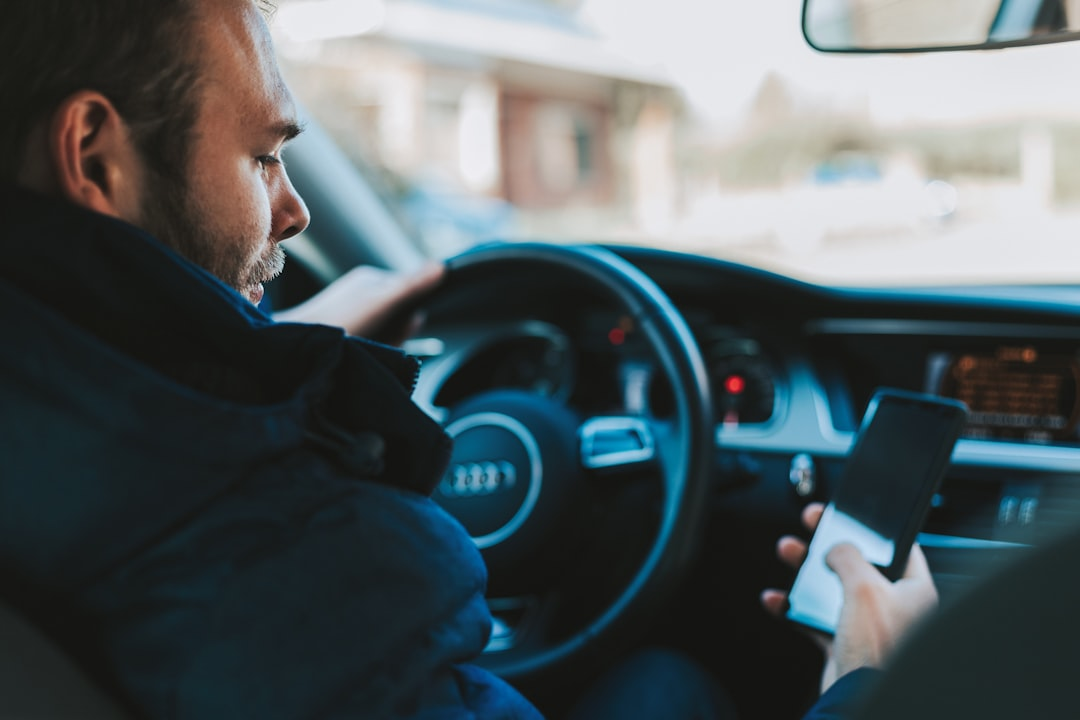phone: (784, 389, 970, 642)
